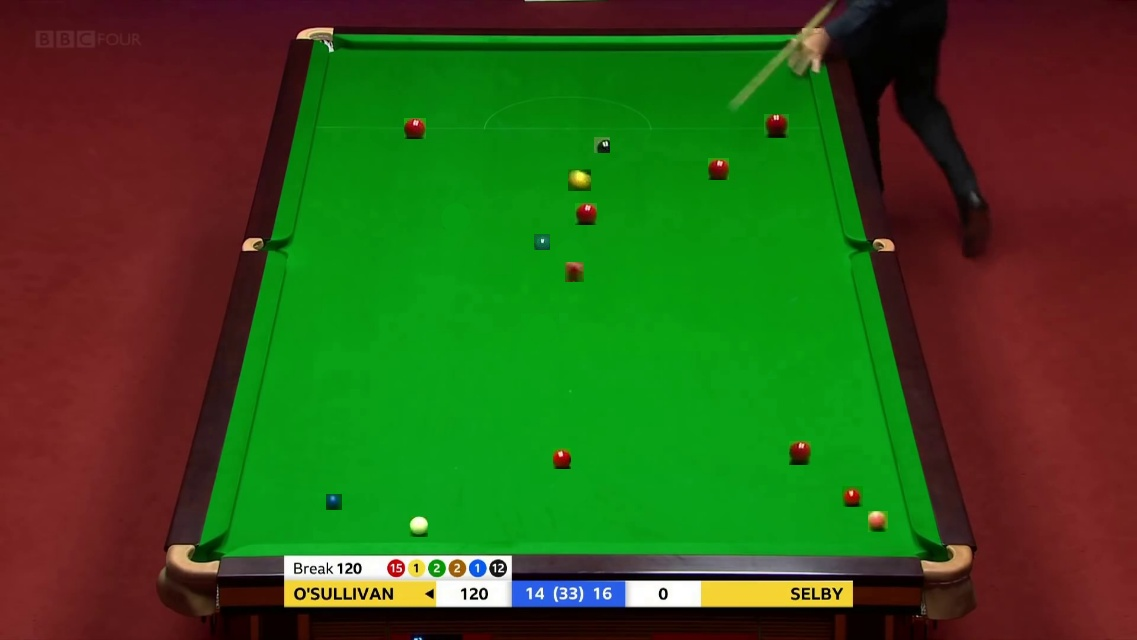black: (594, 137, 610, 153)
blue: (326, 494, 342, 510)
brown: (764, 114, 788, 139)
green: (534, 234, 550, 250)
pink: (868, 511, 889, 531)
red: (789, 441, 813, 463), (575, 203, 597, 225), (708, 158, 730, 179), (404, 118, 425, 140), (842, 486, 863, 507), (565, 262, 585, 281), (553, 448, 574, 466)
white: (409, 516, 430, 535)
yellow: (568, 169, 590, 192)
